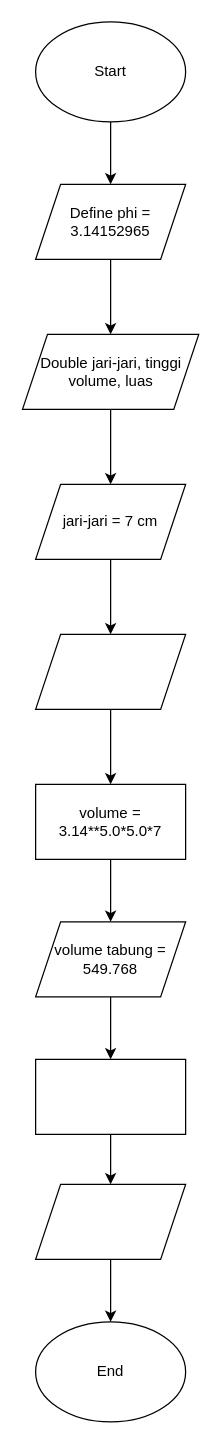
This 220x1444 diagram has some shape labels left out. The centre of each missing label's shape, as x and y in pixels:
"luas = 2*3.14*5.0*7" goes at (110,1096).
"luas tabung = 219.907" goes at (110,1221).
"tinggi = 7 cm" goes at (110,671).
